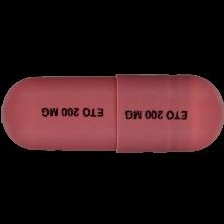51672-4016: (0, 0, 224, 224)
